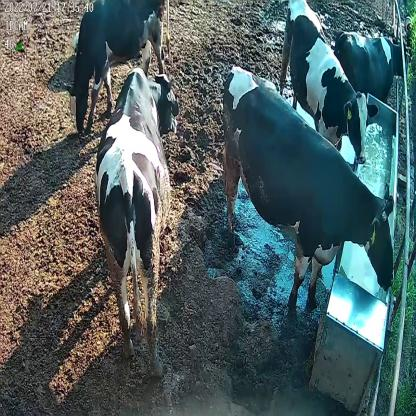cow: (221, 67, 396, 309), (93, 66, 179, 365), (279, 0, 381, 165), (62, 0, 171, 132), (332, 30, 408, 100)
